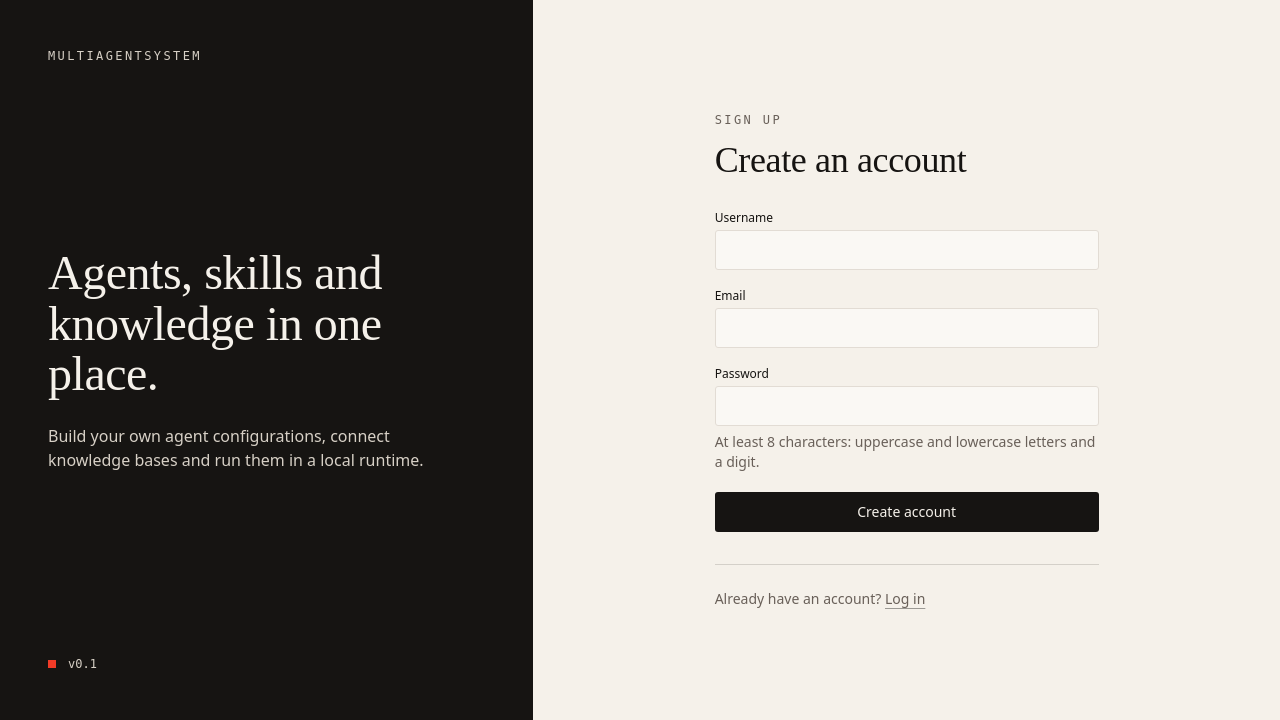
Test: signup page › shows validation errors next to the fields
Type "alice" into the field labelled "Username". click: x=907, y=250
box: [715, 230, 1099, 270]
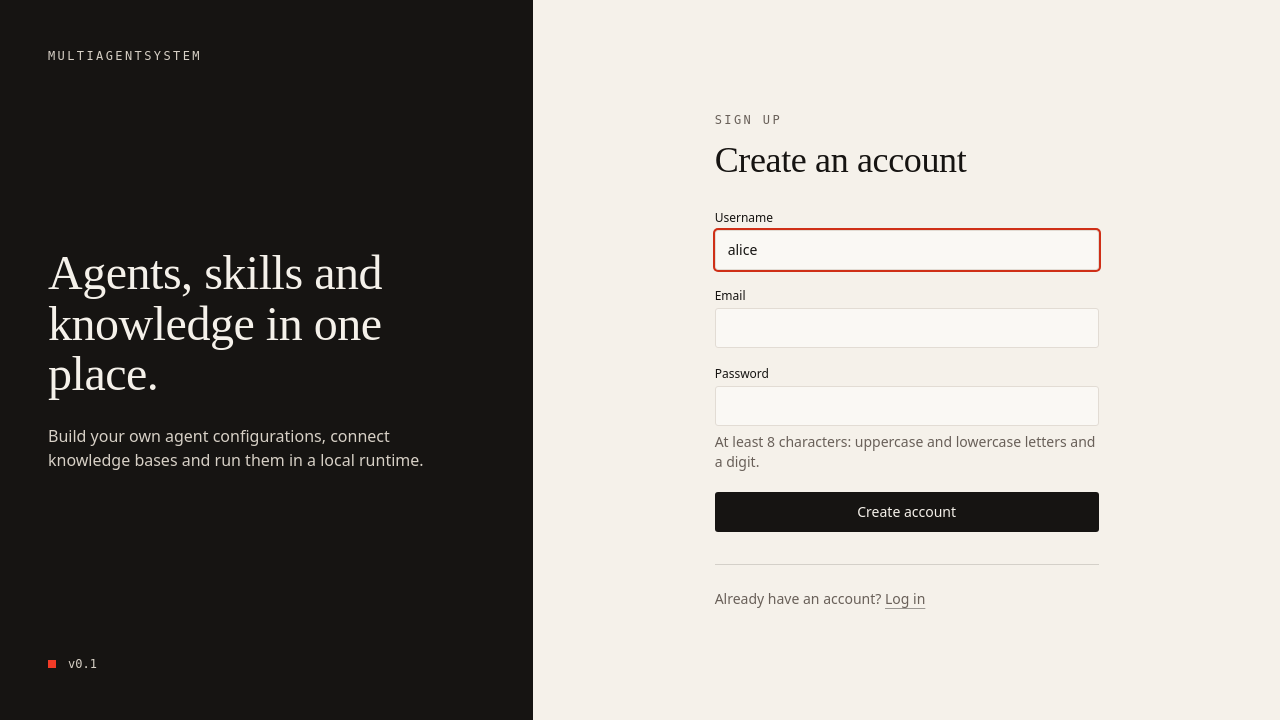
Type "alice@example.com" into the field labelled "Email". click: x=907, y=328
box: [715, 308, 1099, 348]
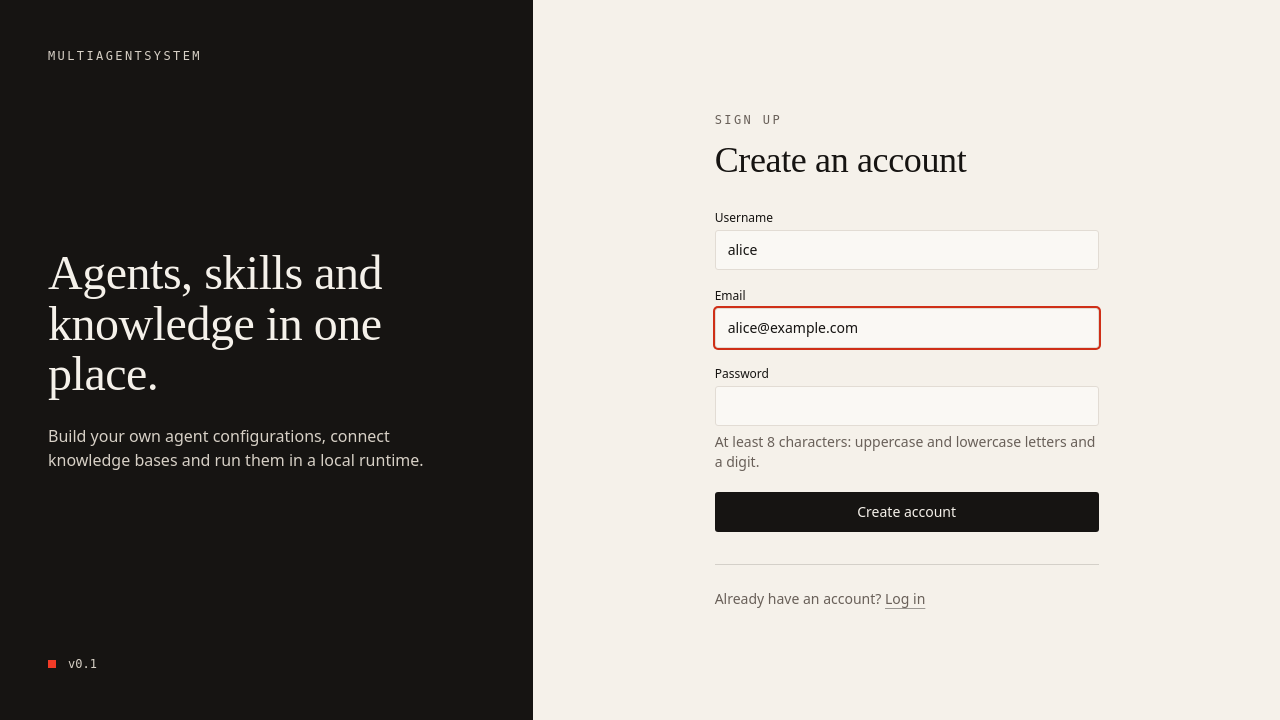
Type "Passw0rdAA" into the password field labelled "Password". click: x=907, y=406
box: [715, 386, 1099, 426]
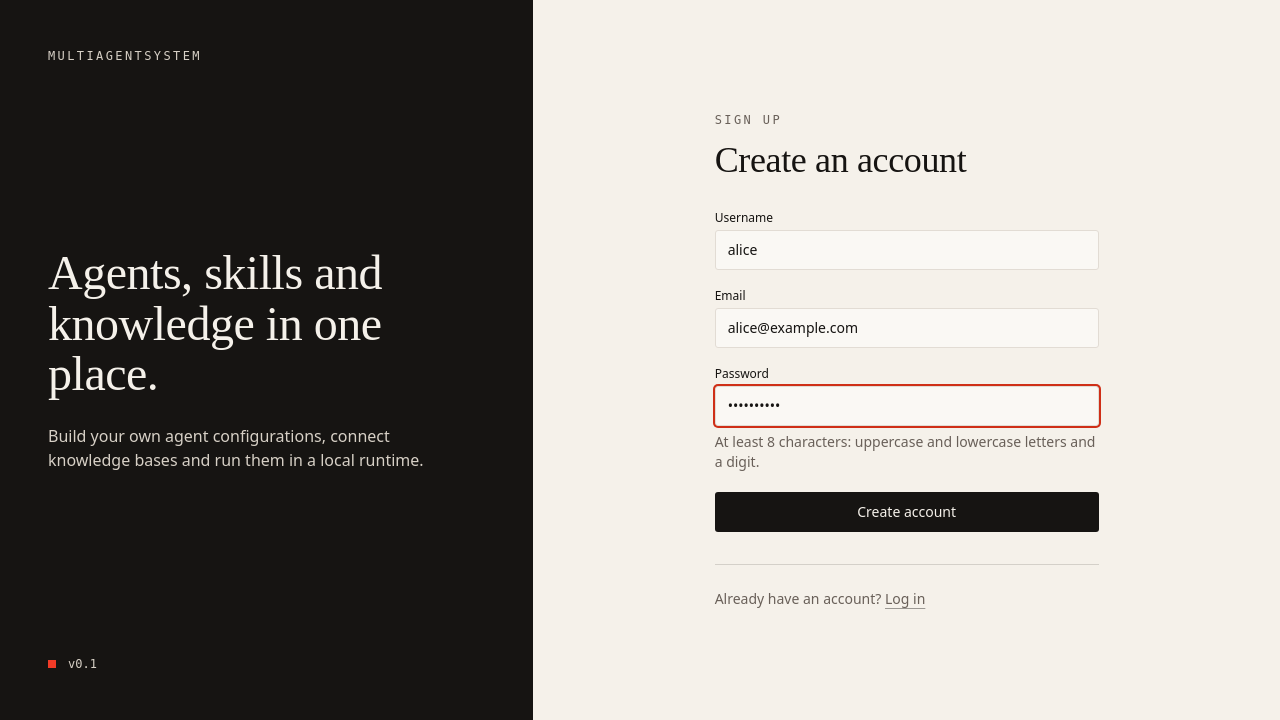
Click the button "Create account". click: x=907, y=512
box: [715, 492, 1099, 532]
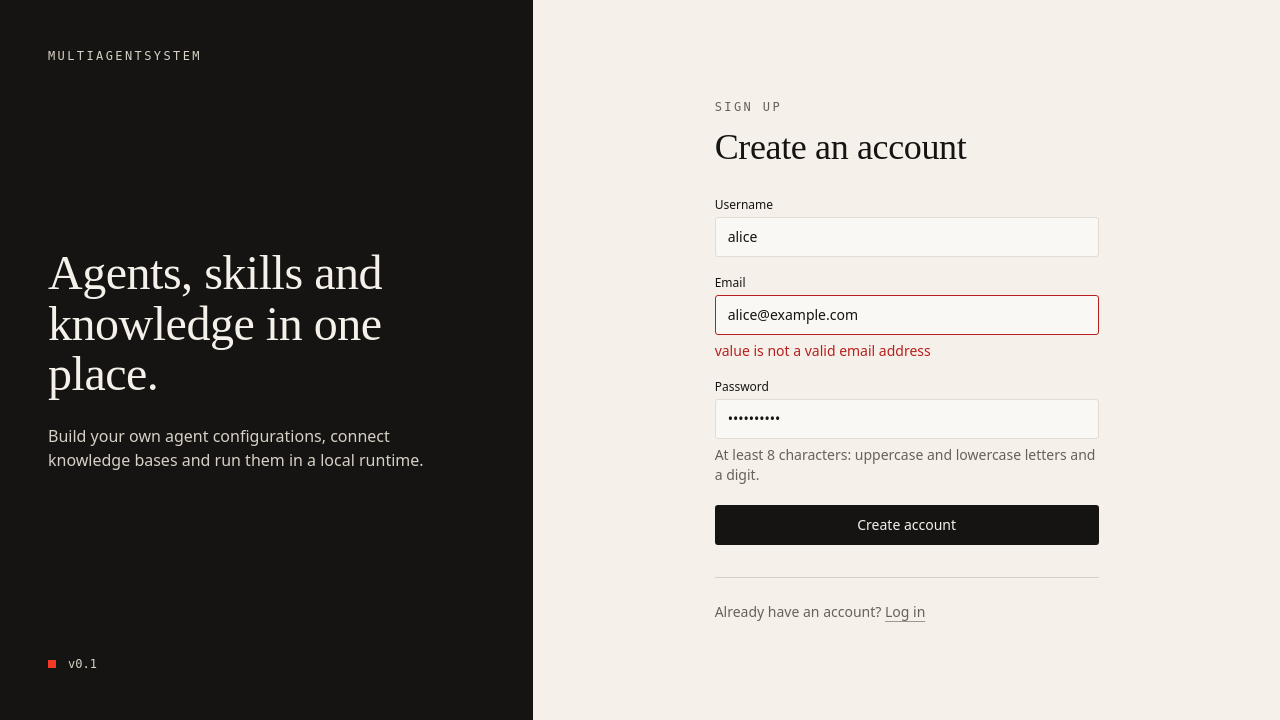
Check: the text "value is not a valid email address" is shown, box [715, 340, 931, 360]
